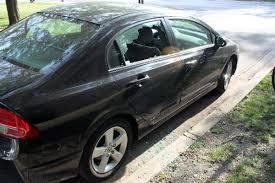Broken-glass: (116, 19, 173, 63)
